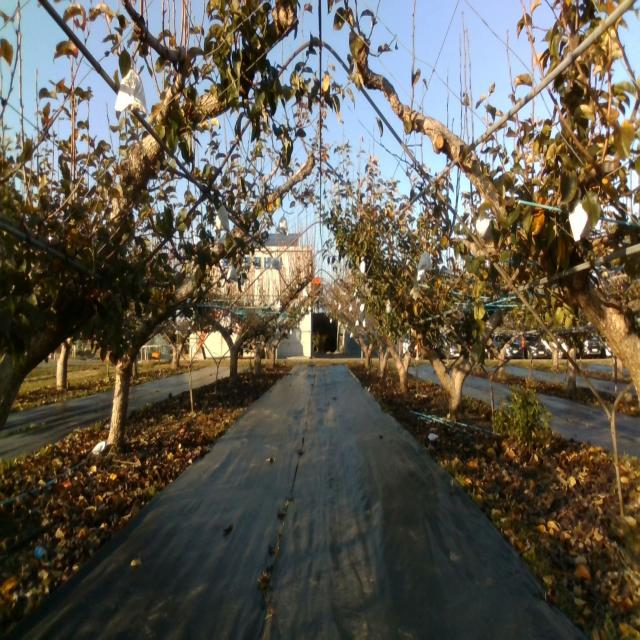pearbags: (114, 66, 147, 118), (569, 198, 590, 243), (475, 210, 492, 242), (212, 204, 230, 234), (418, 250, 432, 273), (276, 212, 288, 237)
